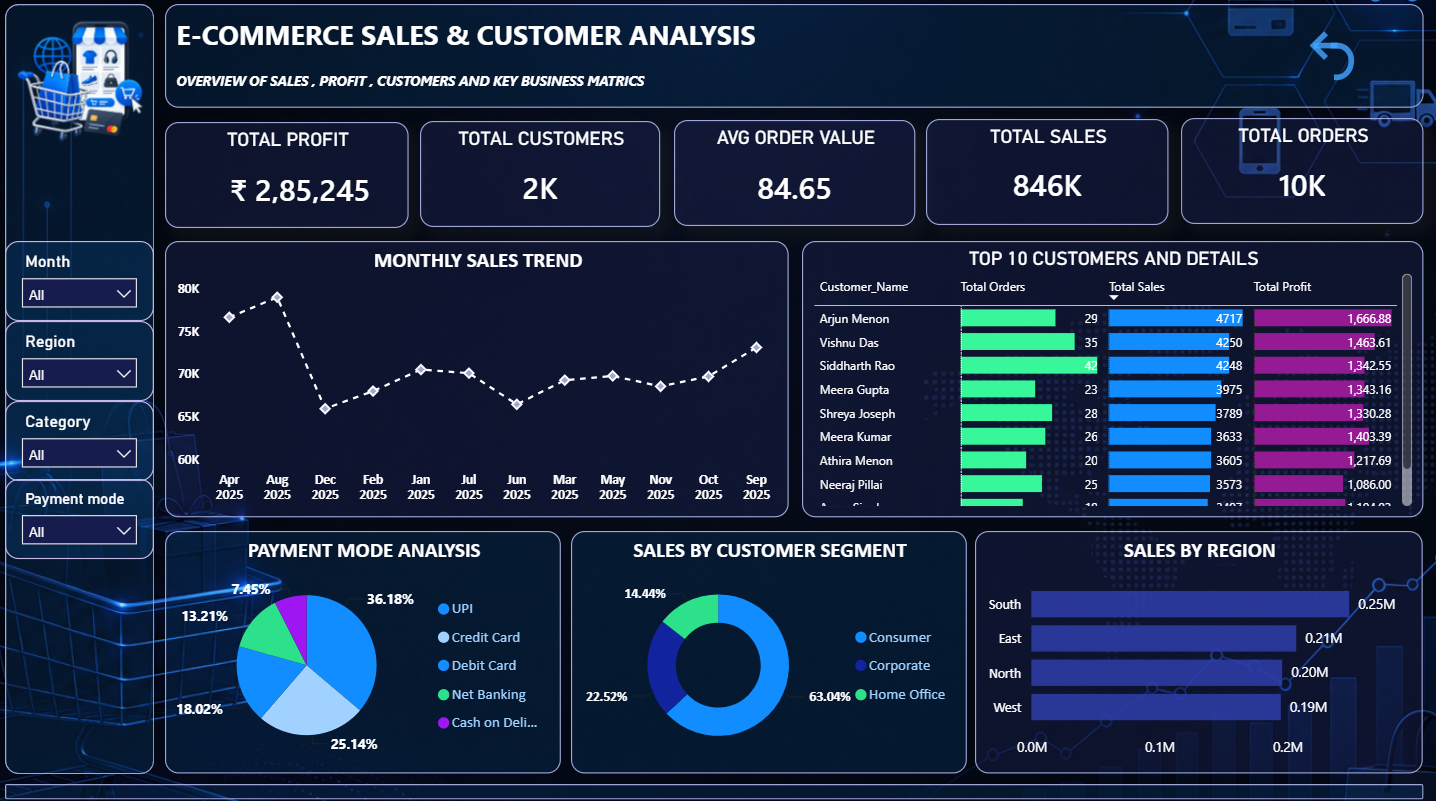

Layout of this report page (visuals, bound fields, positions):
{"tool":"powerbi","page":{"name":"Main Dashboard","canvas":[1280,720],"ordinal":0},"visuals":[{"type":"group","id":"g1","title":"Group 2","box":[148.8,111.9,215.9,94.3],"z":0},{"type":"slicer","fields":{"Values":["DIM_DATE.Date.Variation.Date Hierarchy.Month"]},"box":[6.8,216.9,132.3,71],"z":0,"group":"g6"},{"type":"group","id":"g2","title":"Group 2","box":[1049.5,108,215,94.3],"z":1000},{"type":"slicer","fields":{"Values":["DIM_CUSTOMER.Region"]},"box":[6.8,287.9,132.3,71],"z":1000,"group":"g6"},{"type":"group","id":"g3","title":"Group 2","box":[375.4,110.9,213,94.3],"z":2000},{"type":"slicer","fields":{"Values":["DIM_PRODUCT.Category"]},"box":[6.8,358.9,132.3,71],"z":2000,"group":"g6"},{"type":"group","id":"g4","title":"Group 2","box":[600.1,109.9,214,94.3],"z":3000},{"type":"group","id":"g5","title":"Group 2","box":[823.8,108.9,215,94.3],"z":4000},{"type":"slicer","fields":{"Values":["Retail Sales Perfomence.Payment_Method"]},"box":[7,427.7,132.3,71],"z":4000,"group":"g6"},{"type":"lineChart","title":"MONTHLY SALES TREND","fields":{"Y":["KPI DAX Measure.Total Sales"],"Category":["DIM_DATE.Month Year"]},"box":[148.8,216.9,553.4,245.1],"z":5000},{"type":"barChart","title":"SALES BY REGION","fields":{"Category":["DIM_CUSTOMER.Region"],"Y":["KPI DAX Measure.Total Sales"]},"box":[867.6,474.7,396.8,215],"z":6000},{"type":"cardVisual","title":"TOTAL ORDERS","fields":{"Data":["KPI DAX Measure.Total Orders"]},"box":[1049.5,108,215,94],"z":7000,"group":"g2"},{"type":"cardVisual","title":"TOTAL SALES","fields":{"Data":["KPI DAX Measure.Total Sales"]},"box":[823.8,108.9,215,93.7],"z":7000,"group":"g5"},{"type":"cardVisual","title":"AVG ORDER VALUE","fields":{"Data":["KPI DAX Measure.Average Order Value"]},"box":[600.1,109.9,214,94],"z":7000,"group":"g4"},{"type":"cardVisual","title":"TOTAL CUSTOMERS","fields":{"Data":["KPI DAX Measure.Total Customers"]},"box":[375.4,110.9,213,94],"z":7000,"group":"g3"},{"type":"cardVisual","title":"TOTAL PROFIT","fields":{"Data":["KPI DAX Measure.Total Profit"]},"box":[148.8,111.9,216,94],"z":7000,"group":"g1"},{"type":"tableEx","title":"TOP 10 CUSTOMERS AND DETAILS","fields":{"Values":["DIM_CUSTOMER.Customer_Name","KPI DAX Measure.Total Orders","KPI DAX Measure.Total Sales","KPI DAX Measure.Total Profit"]},"box":[713.9,216.9,550.5,245.1],"z":7000},{"type":"pieChart","title":"PAYMENT MODE ANALYSIS","fields":{"Category":["Retail Sales Perfomence.Payment_Method"],"Y":["KPI DAX Measure.Total Sales"]},"box":[148.8,474.7,351.1,215],"z":8000},{"type":"donutChart","title":"SALES BY CUSTOMER SEGMENT","fields":{"Category":["DIM_CUSTOMER.Customer_Segment"],"Y":["KPI DAX Measure.Total Sales"]},"box":[508.7,474.7,351.1,215],"z":9000},{"type":"textbox","box":[148.8,6.8,1115.6,92.4],"z":10000},{"type":"shape","box":[6.8,6.8,132.3,682.8],"z":11000},{"type":"shape","box":[6.8,698.4,1257.6,13.6],"z":12000},{"type":"group","id":"g6","title":"Group 1","box":[6.8,216.9,132.3,282.1],"z":13000},{"type":"actionButton","box":[7,7,132,135],"z":14000},{"type":"actionButton","box":[1157,26,59,54],"z":15000}]}

Visuals, with their boxes in screenshot pixels (x1, y1, x2, y2), scaled from the page's 1280x720 canvas onto the 1436x801 screenshot:
"Group 2" group: <box>167,124,409,229</box>
slicer - DIM_DATE.Date.Variation.Date Hierarchy.Month: <box>8,241,156,320</box>
"Group 2" group: <box>1177,120,1419,225</box>
slicer - DIM_CUSTOMER.Region: <box>8,320,156,399</box>
"Group 2" group: <box>421,123,660,228</box>
slicer - DIM_PRODUCT.Category: <box>8,399,156,478</box>
"Group 2" group: <box>673,122,913,227</box>
"Group 2" group: <box>924,121,1165,226</box>
slicer - Retail Sales Perfomence.Payment_Method: <box>8,476,156,555</box>
"MONTHLY SALES TREND" lineChart: <box>167,241,788,514</box>
"SALES BY REGION" barChart: <box>973,528,1418,767</box>
"TOTAL ORDERS" cardVisual: <box>1177,120,1419,225</box>
"TOTAL SALES" cardVisual: <box>924,121,1165,225</box>
"AVG ORDER VALUE" cardVisual: <box>673,122,913,227</box>
"TOTAL CUSTOMERS" cardVisual: <box>421,123,660,228</box>
"TOTAL PROFIT" cardVisual: <box>167,124,409,229</box>
"TOP 10 CUSTOMERS AND DETAILS" tableEx: <box>801,241,1418,514</box>
"PAYMENT MODE ANALYSIS" pieChart: <box>167,528,561,767</box>
"SALES BY CUSTOMER SEGMENT" donutChart: <box>571,528,965,767</box>
textbox: <box>167,8,1418,110</box>
shape: <box>8,8,156,767</box>
shape: <box>8,777,1418,792</box>
"Group 1" group: <box>8,241,156,555</box>
actionButton: <box>8,8,156,158</box>
actionButton: <box>1298,29,1364,89</box>
